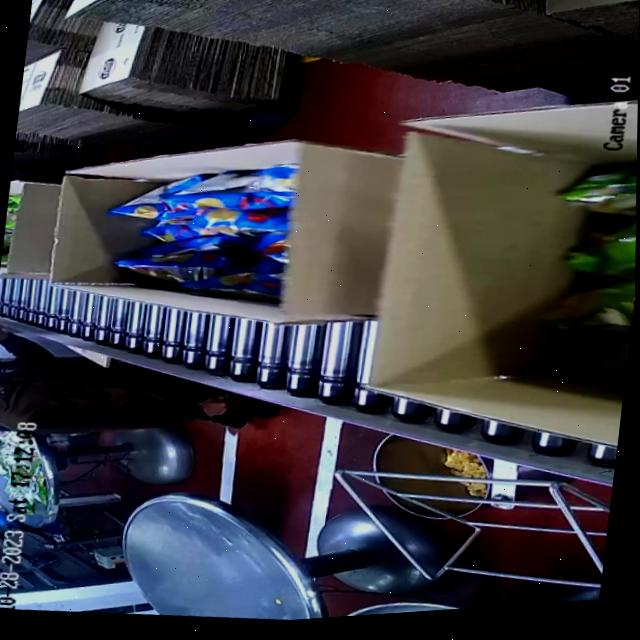PAPRIKA: (97, 149, 293, 310)
